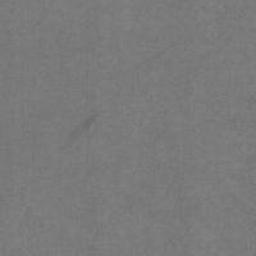Inclusion: (67, 113, 97, 144)
